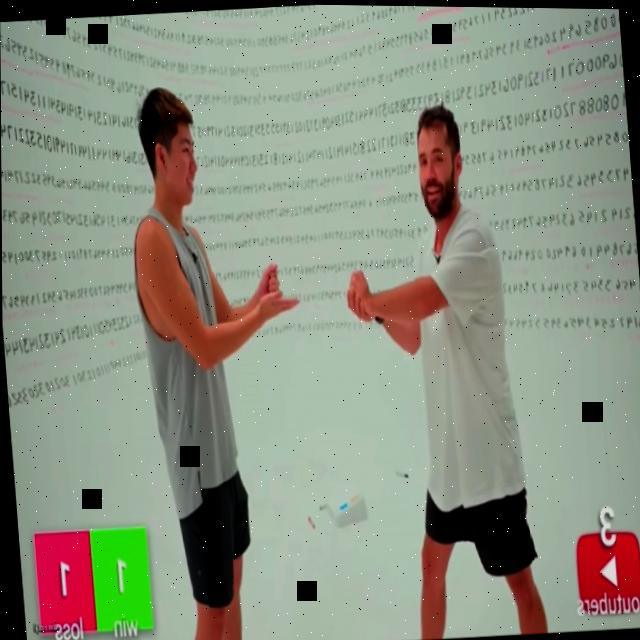Rock: (347, 268, 372, 319), (259, 260, 279, 296)
